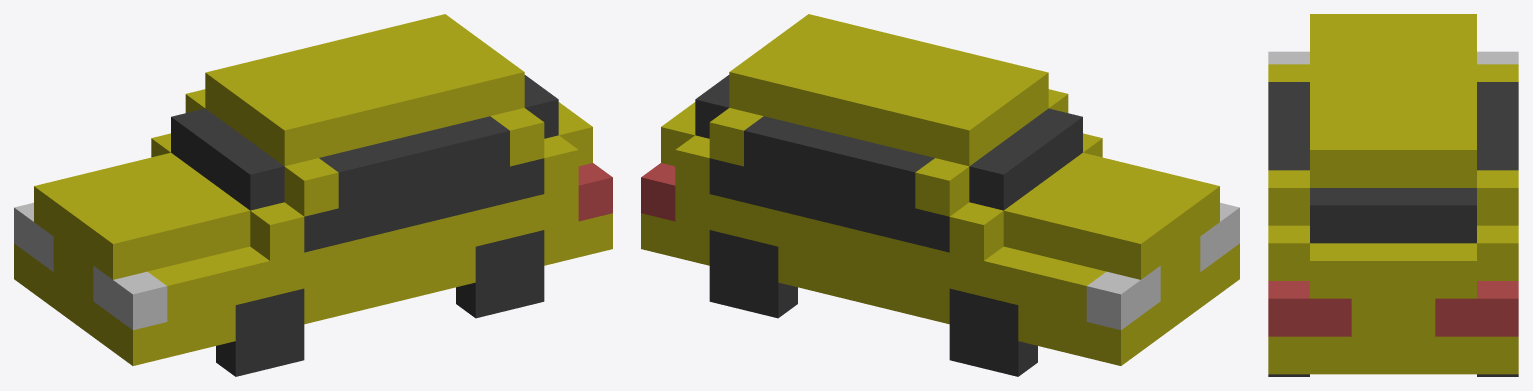
The model's file is car-v1-yellow.gltf.
The picture shows the model from 3 angles, left to right: view 1: azimuth 30°, elevation 25°; view 2: azimuth 150°, elevation 25°; view 3: azimuth 270°, elevation 25°; orthographic projection. The views are drawn at different scales.
Parts seen in each view (by area): view 1: model, wheels; view 2: model, wheels; view 3: model, wheels.
Boxes of the visible parts, x1=… form: model: x1=14, y1=14, x2=612, y2=365; wheels: x1=216, y1=230, x2=544, y2=376; model: x1=641, y1=14, x2=1239, y2=365; wheels: x1=709, y1=230, x2=1037, y2=376; model: x1=1268, y1=14, x2=1518, y2=374; wheels: x1=1268, y1=374, x2=1518, y2=376.
Bounding box in the file's own units: 1.4 × 0.6 × 0.6.
Materials: 2 (2 with a texture image).
